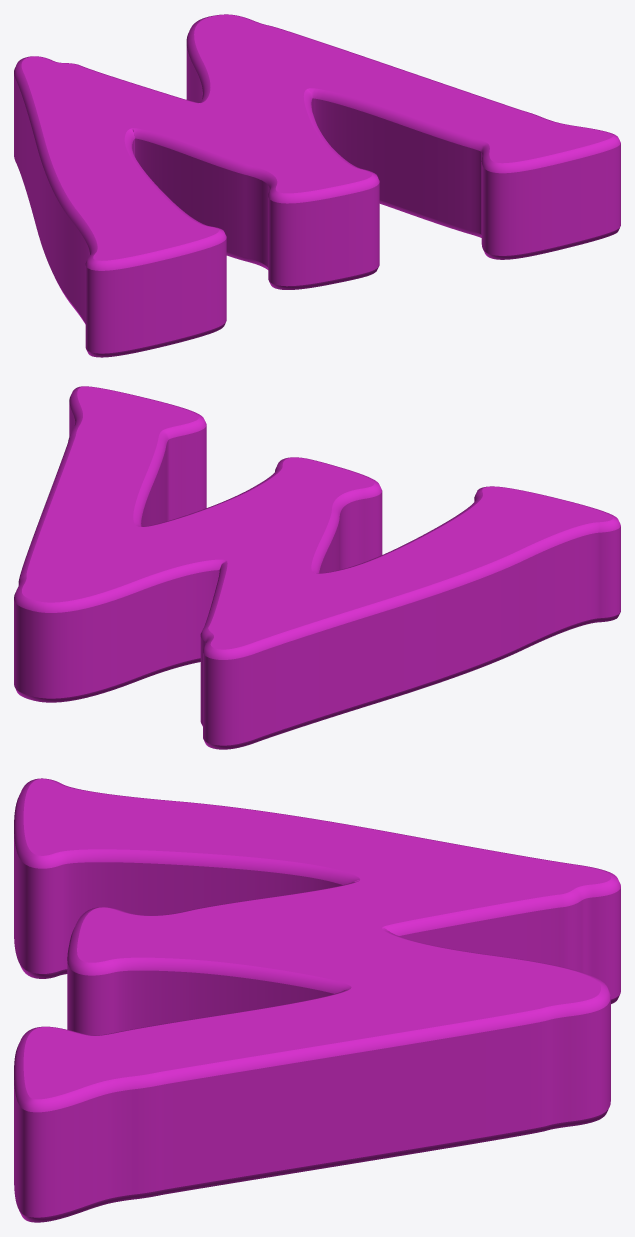
File: Bubble_LetterW.fbx
3 renders of one model, top to bottom at view 1: azimuth 30°, elevation 25°; view 2: azimuth 150°, elevation 25°; view 3: azimuth 270°, elevation 25°, orthographic. The views are drawn at different scales.
Parts seen in each view (by area): view 1: BubbleLetter_W; view 2: BubbleLetter_W; view 3: BubbleLetter_W.
Part boxes in pixels (box(x1,y1,x2,y2)): BubbleLetter_W: box(14, 14, 620, 357); BubbleLetter_W: box(14, 386, 620, 749); BubbleLetter_W: box(14, 778, 620, 1222).
Bounding box in the file's own units: 0.8044 × 0.14 × 0.6272.
